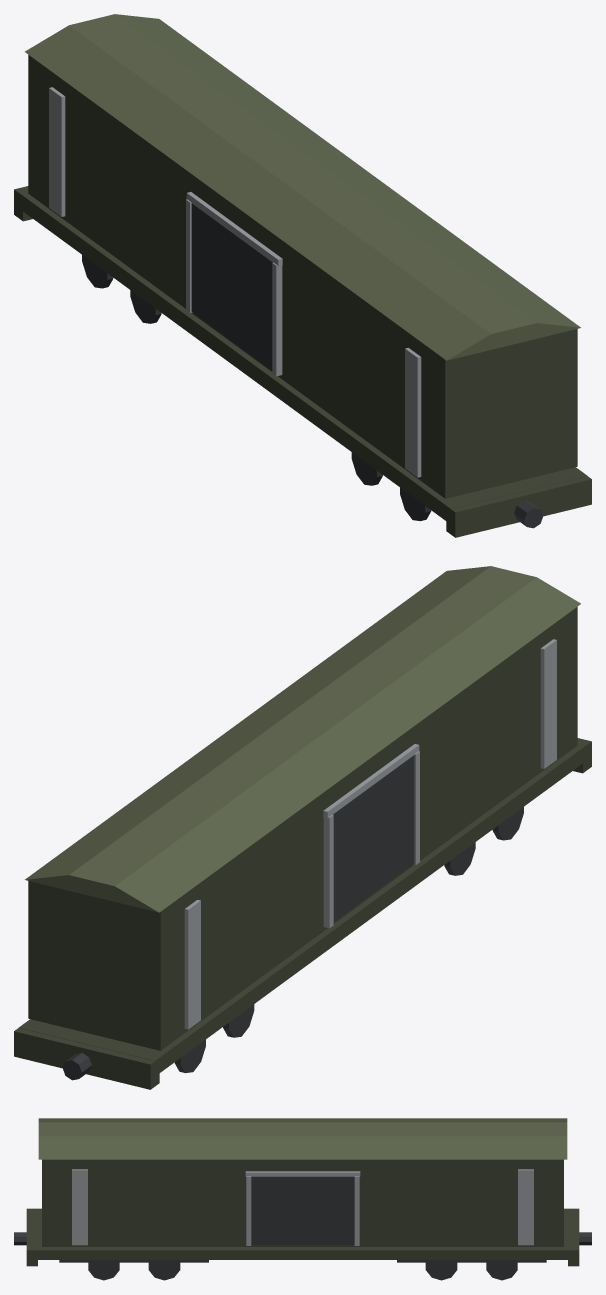
File: Unit_MilitaryTrainVan.obj
3 views of the same model, one above another, from view 1: azimuth 30°, elevation 25°; view 2: azimuth 150°, elevation 25°; view 3: azimuth 270°, elevation 25° (orthographic). The views are drawn at different scales.
Bounding box in the file's own units: 3.26 × 4.72 × 18.15.
